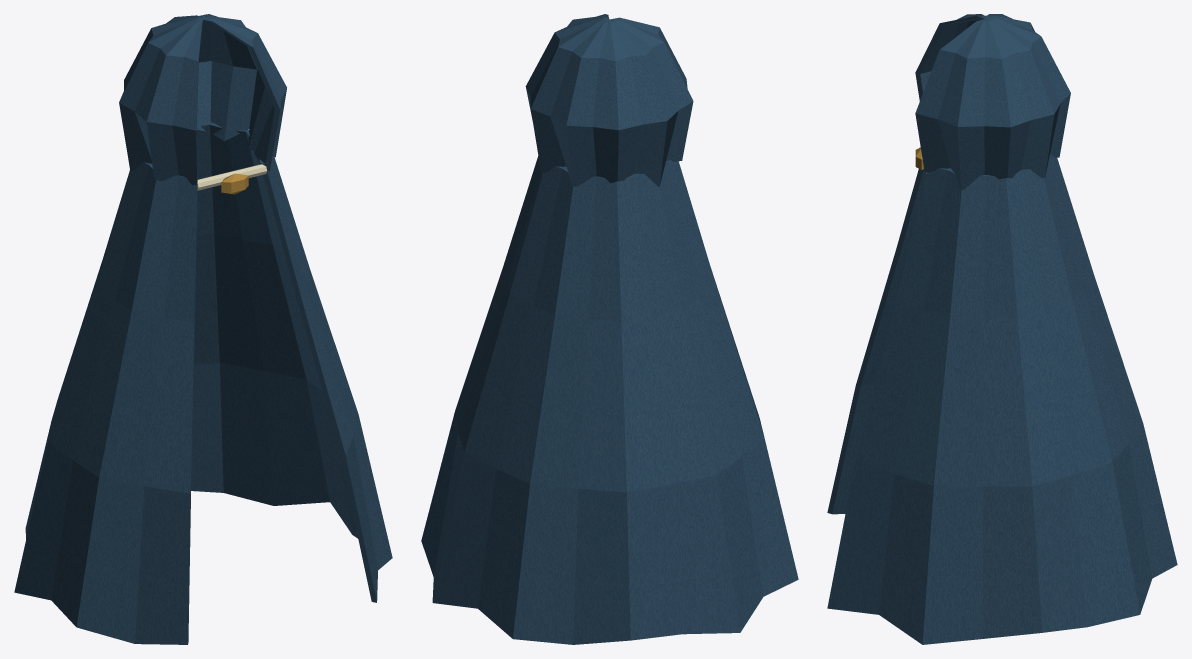
File: invisibility_cloak.glb
The picture shows the model from 3 angles, left to right: view 1: azimuth 30°, elevation 25°; view 2: azimuth 150°, elevation 25°; view 3: azimuth 270°, elevation 25°; orthographic projection.
Parts seen in each view (by area): view 1: pleated_cape, open_hood, collar_trim; view 2: pleated_cape, open_hood; view 3: pleated_cape, open_hood.
Boxes of the visible parts, x1=… form: pleated_cape: x1=14, y1=122, x2=392, y2=644; open_hood: x1=119, y1=14, x2=286, y2=185; collar_trim: x1=197, y1=164, x2=266, y2=190; pleated_cape: x1=421, y1=156, x2=798, y2=644; open_hood: x1=525, y1=14, x2=693, y2=186; pleated_cape: x1=827, y1=154, x2=1177, y2=644; open_hood: x1=915, y1=14, x2=1070, y2=190.
Bounding box in the file's own units: 1.12 × 1.85 × 1.07.
Materials: 1 (1 with a texture image).
